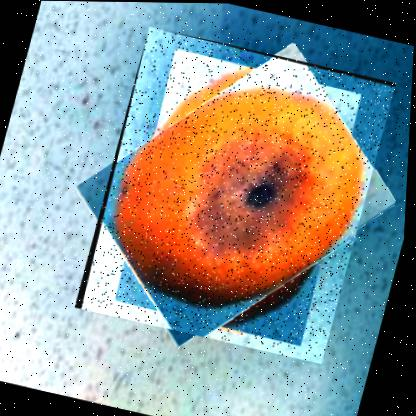orange_rotten: (74, 25, 398, 364)
